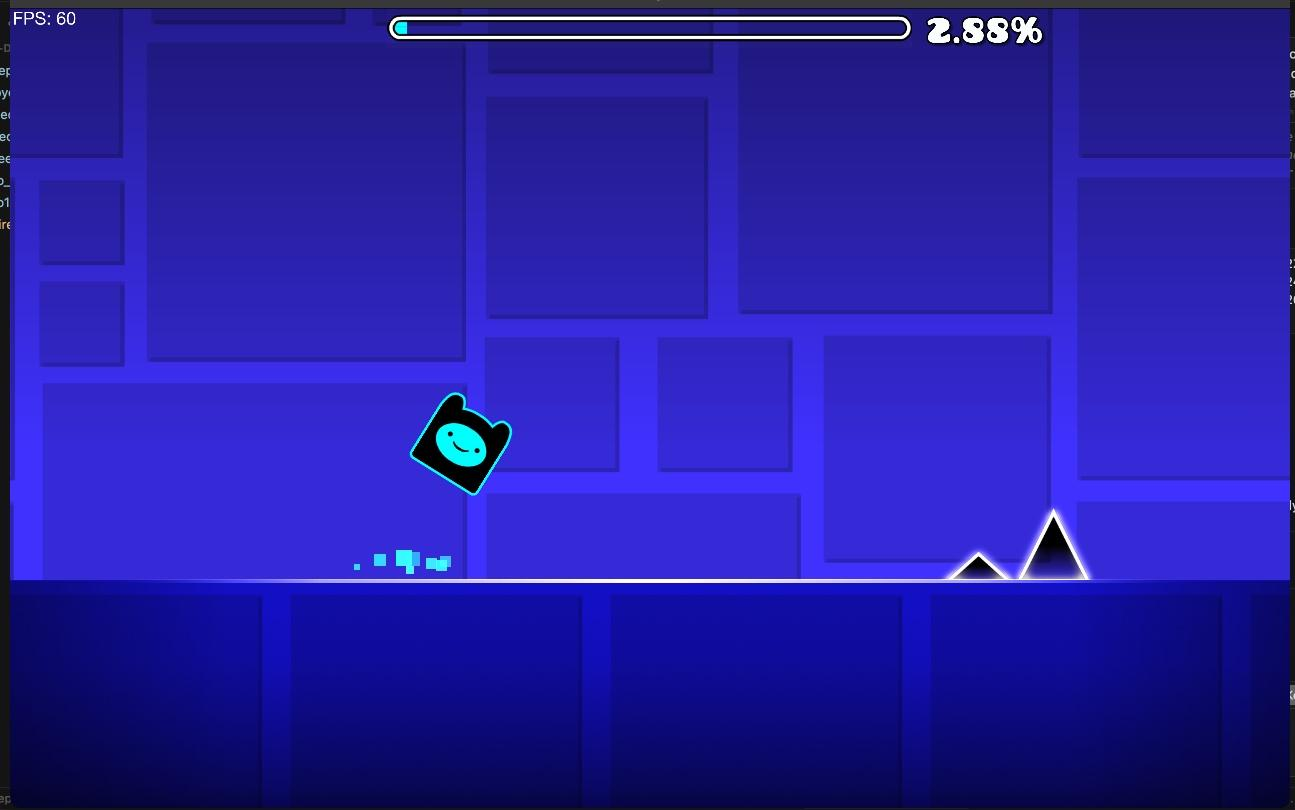player: (411, 393, 510, 494)
spike: (1019, 510, 1088, 579), (949, 552, 1006, 578)
